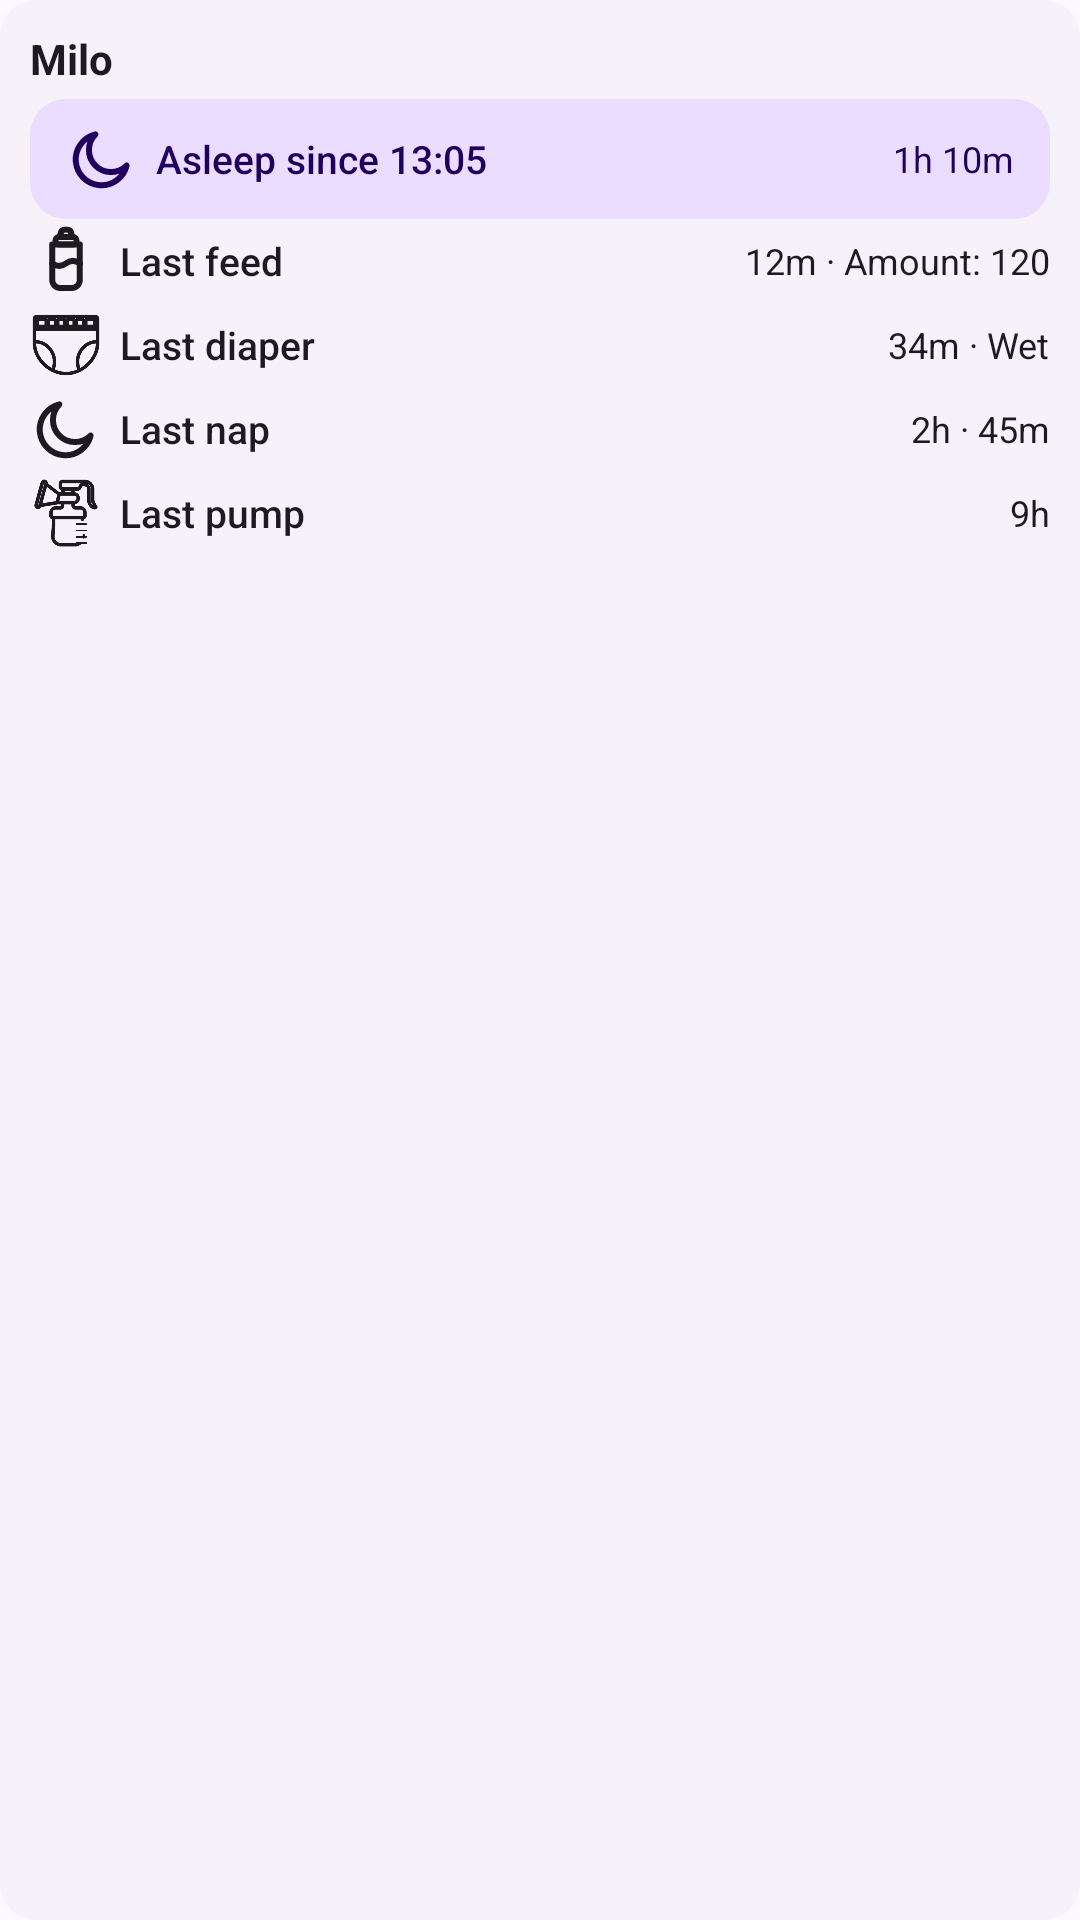

Icon click points for this 1080×1920 phone screenshot, format (x,y):
feeding: (66,258)
pumping: (66,513)
